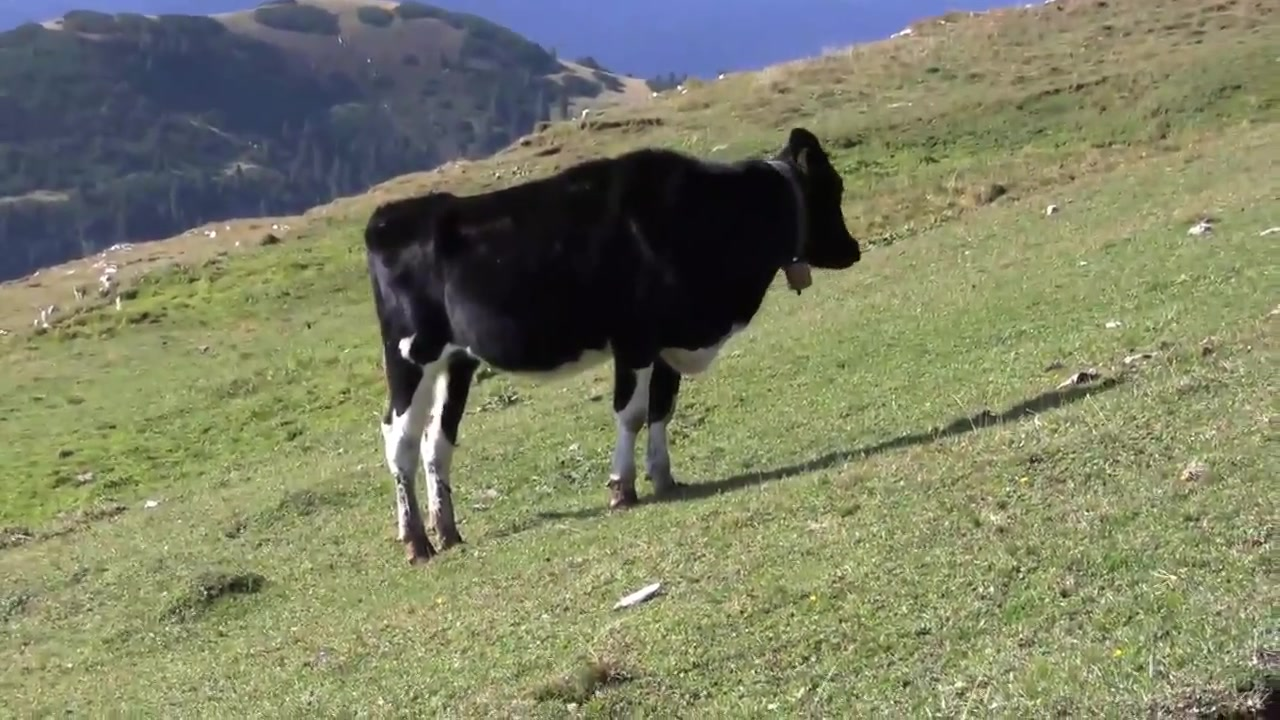cow: (362, 128, 863, 566)
